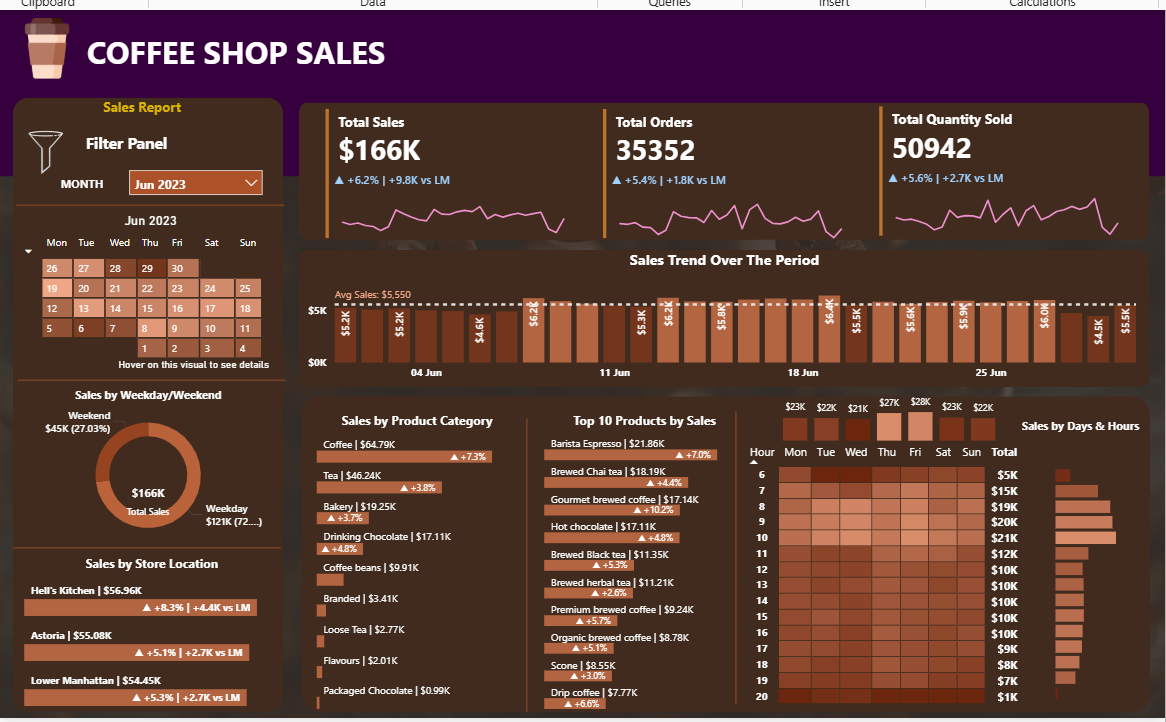

The dashboard page shown, as its layout file describes it:
{"tool":"powerbi","page":{"name":"coffe shop dashboard","canvas":[1400,850],"ordinal":0},"visuals":[{"type":"shape","box":[0,0,1400.3,199.6],"z":0},{"type":"shape","box":[17.1,105.4,324.7,737.8],"z":1000},{"type":"shape","box":[360.2,111.1,1020.6,165.1],"z":2000},{"type":"textbox","box":[100.6,19.5,372.2,64.5],"z":3000},{"type":"cardVisual","fields":{"Data":["Transactions.Total Quantity Sold"]},"box":[1052.1,111.1,300.2,165.1],"z":4000,"group":"g3"},{"type":"cardVisual","fields":{"Data":["Transactions.Total Sales"]},"box":[387.2,114.1,300.2,165.1],"z":4000,"group":"g1"},{"type":"cardVisual","fields":{"Data":["Transactions.Total Orders"]},"box":[719.7,114.1,300.2,165.1],"z":4000,"group":"g2"},{"type":"slicer","fields":{"Values":["Date table.Month Year"]},"box":[151.6,187.6,169.6,42],"z":4000},{"type":"group","id":"g1","title":"Group 1","box":[387.2,114.1,306.2,166.6],"z":5000},{"type":"lineChart","fields":{"Category":["Date table.Date.Variation.Date Hierarchy.Year","Date table.Date.Variation.Date Hierarchy.Quarter","Date table.Date.Variation.Date Hierarchy.Month","Date table.Date.Variation.Date Hierarchy.Day"],"Y":["Transactions.Total Quantity Sold"]},"box":[1062.2,192.2,295.7,85.5],"z":5001,"group":"g3"},{"type":"lineChart","fields":{"Y":["Transactions.Total Sales"],"Category":["Date table.Date.Variation.Date Hierarchy.Year","Date table.Date.Variation.Date Hierarchy.Quarter","Date table.Date.Variation.Date Hierarchy.Month","Date table.Date.Variation.Date Hierarchy.Day"]},"box":[397.3,195.2,295.7,85.5],"z":5001,"group":"g1"},{"type":"lineChart","fields":{"Category":["Date table.Date.Variation.Date Hierarchy.Year","Date table.Date.Variation.Date Hierarchy.Quarter","Date table.Date.Variation.Date Hierarchy.Month","Date table.Date.Variation.Date Hierarchy.Day"],"Y":["Transactions.Total Orders"]},"box":[729.8,195.2,295.7,85.5],"z":5001,"group":"g2"},{"type":"group","id":"g2","title":"Group 1","box":[719.7,114.1,306.2,166.6],"z":6000},{"type":"group","id":"g3","title":"Group 1","box":[1052.1,111.1,306.2,166.6],"z":7000},{"type":"pivotTable","fields":{"Rows":["Date table.Week Number"],"Columns":["Date table.Day Name"],"Values":["Min(Date table.Day Number)"]},"box":[21.4,262.1,304.8,190.9],"z":8000},{"type":"card","fields":{"Values":["Min(Date table.Month Year)"]},"box":[143.9,235,76.9,37],"z":9000},{"type":"card","fields":{"Values":["Transactions.foot note"]},"box":[135.3,411.6,198,32.8],"z":10000},{"type":"shape","box":[17.1,638.1,321.9,15.7],"z":11000},{"type":"shape","box":[21.4,226.5,321.9,15.7],"z":12000},{"type":"donutChart","title":"Sales by Weekday/Weekend","fields":{"Category":["Date table.Weekday/Weekend"],"Y":["Transactions.Total Sales"]},"box":[25.6,452.9,307.6,193.7],"z":13000},{"type":"shape","box":[22.8,437.3,321.9,15.7],"z":14000},{"type":"card","fields":{"Values":["Transactions.Total Sales"]},"box":[146.7,564,64.1,49.8],"z":15000},{"type":"clusteredBarChart","title":"Sales by Store Location","fields":{"Y":["Transactions.placeholder","Transactions.Total Sales"],"Category":["Transactions.store_location"]},"box":[25.6,653.7,316.2,189.4],"z":16000},{"type":"shape","box":[363.2,463.8,1019.1,379.7],"z":17000},{"type":"shape","box":[360.2,288.2,1020.6,165.1],"z":18000},{"type":"columnChart","title":"Sales Trend Over The Period","fields":{"Category":["Transactions.transaction_date"],"Y":["Transactions.Total Sales"]},"box":[366.2,288.2,1010.1,165.1],"z":19000},{"type":"clusteredBarChart","title":"Sales by Product Category","fields":{"Y":["Transactions.placeholder","Transactions.Total Sales"],"Category":["Transactions.product_category"]},"box":[376,481.4,250.7,363.2],"z":20000},{"type":"shape","box":[626.7,491.4,12.8,351.8],"z":21000},{"type":"clusteredBarChart","title":"Top 10 Products by Sales","fields":{"Y":["Transactions.placeholder","Transactions.Total Sales"],"Category":["Transactions.product_type"]},"box":[649.5,481.4,250.7,363.2],"z":22000},{"type":"shape","box":[878,481.8,13.5,351.2],"z":23000},{"type":"pivotTable","fields":{"Rows":["Transactions.hour"],"Columns":["Date table.Day Name"],"Values":["Transactions.Total Sales"]},"box":[891.5,516.3,357.2,325.7],"z":24000},{"type":"barChart","fields":{"Category":["Transactions.Hour"],"Y":["Transactions.Total Sales"]},"box":[1263.7,538.8,112.6,294.2],"z":25000},{"type":"columnChart","fields":{"Y":["Transactions.Total Sales"],"Category":["Date table.Day Name"]},"box":[936.5,453.3,265.7,70],"z":26000},{"type":"textbox","box":[1223.2,484.8,159.1,31.5],"z":27000},{"type":"textbox","box":[69,195.1,78,30],"z":28000},{"type":"textbox","box":[120.1,100.6,117.1,33],"z":28001},{"type":"image","box":[16.5,0,82.5,91.6],"z":28002},{"type":"textbox","box":[99.1,142.6,180.1,58.5],"z":28004},{"type":"image","box":[7.5,127.6,99.1,85.5],"z":28005}]}

Visuals, with their boxes on the page's 1400x850 design canvas (x1, y1, x2, y2). These are canvas units, not pixel positions in the 1166x722 screenshot, which may show the page scaled, cropped or inside an application window:
shape: <box>0,0,1400,200</box>
shape: <box>17,105,342,843</box>
shape: <box>360,111,1381,276</box>
textbox: <box>101,20,473,84</box>
cardVisual - Transactions.Total Quantity Sold: <box>1052,111,1352,276</box>
cardVisual - Transactions.Total Sales: <box>387,114,687,279</box>
cardVisual - Transactions.Total Orders: <box>720,114,1020,279</box>
slicer - Date table.Month Year: <box>152,188,321,230</box>
"Group 1" group: <box>387,114,693,281</box>
lineChart - Date table.Date.Variation.Date Hierarchy.Year x Date table.Date.Variation.Date Hierarchy.Quarter: <box>1062,192,1358,278</box>
lineChart - Transactions.Total Sales x Date table.Date.Variation.Date Hierarchy.Year: <box>397,195,693,281</box>
lineChart - Date table.Date.Variation.Date Hierarchy.Year x Date table.Date.Variation.Date Hierarchy.Quarter: <box>730,195,1026,281</box>
"Group 1" group: <box>720,114,1026,281</box>
"Group 1" group: <box>1052,111,1358,278</box>
pivotTable - Date table.Week Number x Date table.Day Name: <box>21,262,326,453</box>
card - Min(Date table.Month Year): <box>144,235,221,272</box>
card - Transactions.foot note: <box>135,412,333,444</box>
shape: <box>17,638,339,654</box>
shape: <box>21,226,343,242</box>
"Sales by Weekday/Weekend" donutChart: <box>26,453,333,647</box>
shape: <box>23,437,345,453</box>
card - Transactions.Total Sales: <box>147,564,211,614</box>
"Sales by Store Location" clusteredBarChart: <box>26,654,342,843</box>
shape: <box>363,464,1382,844</box>
shape: <box>360,288,1381,453</box>
"Sales Trend Over The Period" columnChart: <box>366,288,1376,453</box>
"Sales by Product Category" clusteredBarChart: <box>376,481,627,845</box>
shape: <box>627,491,640,843</box>
"Top 10 Products by Sales" clusteredBarChart: <box>650,481,900,845</box>
shape: <box>878,482,892,833</box>
pivotTable - Transactions.hour x Date table.Day Name: <box>892,516,1249,842</box>
barChart - Transactions.Hour x Transactions.Total Sales: <box>1264,539,1376,833</box>
columnChart - Transactions.Total Sales x Date table.Day Name: <box>936,453,1202,523</box>
textbox: <box>1223,485,1382,516</box>
textbox: <box>69,195,147,225</box>
textbox: <box>120,101,237,134</box>
image: <box>16,0,99,92</box>
textbox: <box>99,143,279,201</box>
image: <box>8,128,107,213</box>
